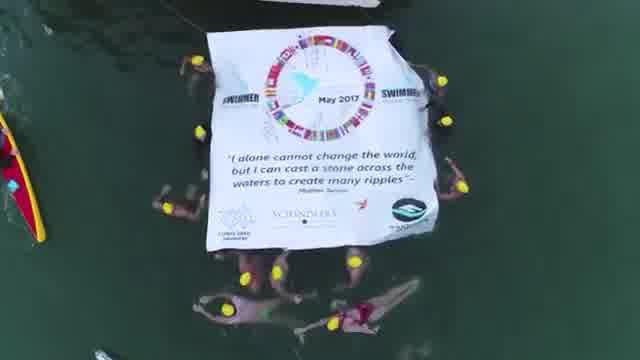human: (294, 292, 421, 336), (190, 293, 294, 333), (152, 184, 205, 226), (430, 156, 474, 204), (170, 54, 218, 92), (418, 62, 451, 102), (340, 250, 371, 289), (232, 252, 266, 285), (268, 255, 294, 296)
